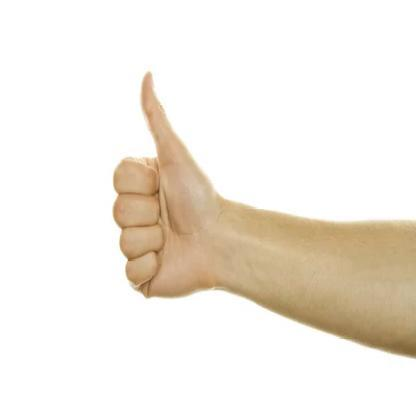thumb_up: (110, 67, 218, 302)
